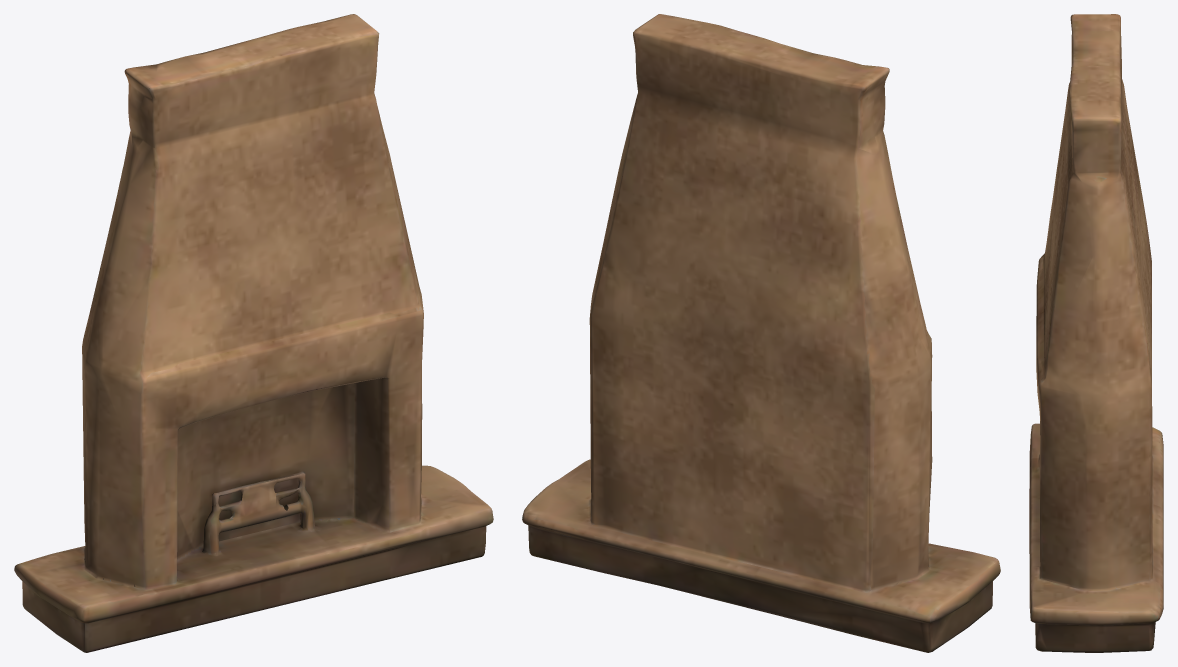
File: weathered-sandstone-fireplace-v001.glb
3 renders of one model, left to right at view 1: azimuth 30°, elevation 25°; view 2: azimuth 150°, elevation 25°; view 3: azimuth 270°, elevation 25°, orthographic. The views are drawn at different scales.
Parts seen in each view (by area): view 1: weathered-sandstone-fireplace; view 2: weathered-sandstone-fireplace; view 3: weathered-sandstone-fireplace.
Part boxes in pixels (x1,y1,x2,y2): weathered-sandstone-fireplace: (14,14,493,652); weathered-sandstone-fireplace: (522,14,1000,652); weathered-sandstone-fireplace: (1029,14,1163,652).
Bounding box in the file's own units: 1.78 × 2.15 × 0.5266.
1 material, 1 textured.
